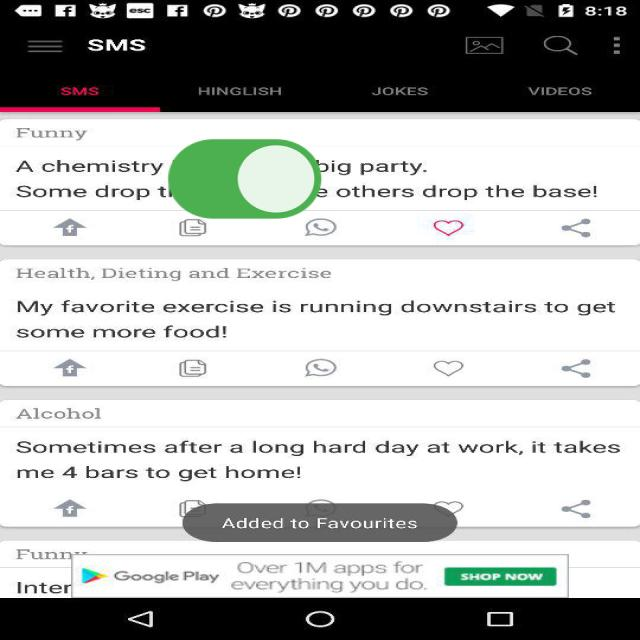social proof: (161, 109, 328, 255)
